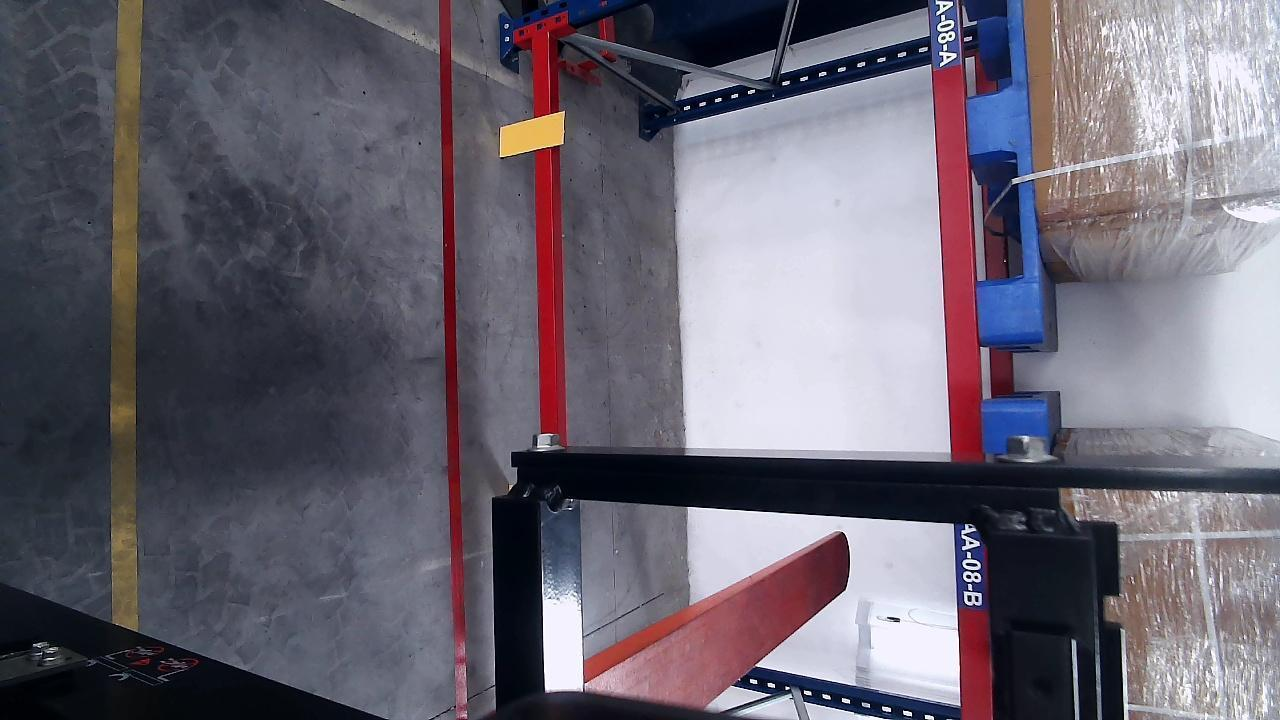red_line: (440, 1, 471, 718)
yellow_line: (111, 0, 144, 632)
